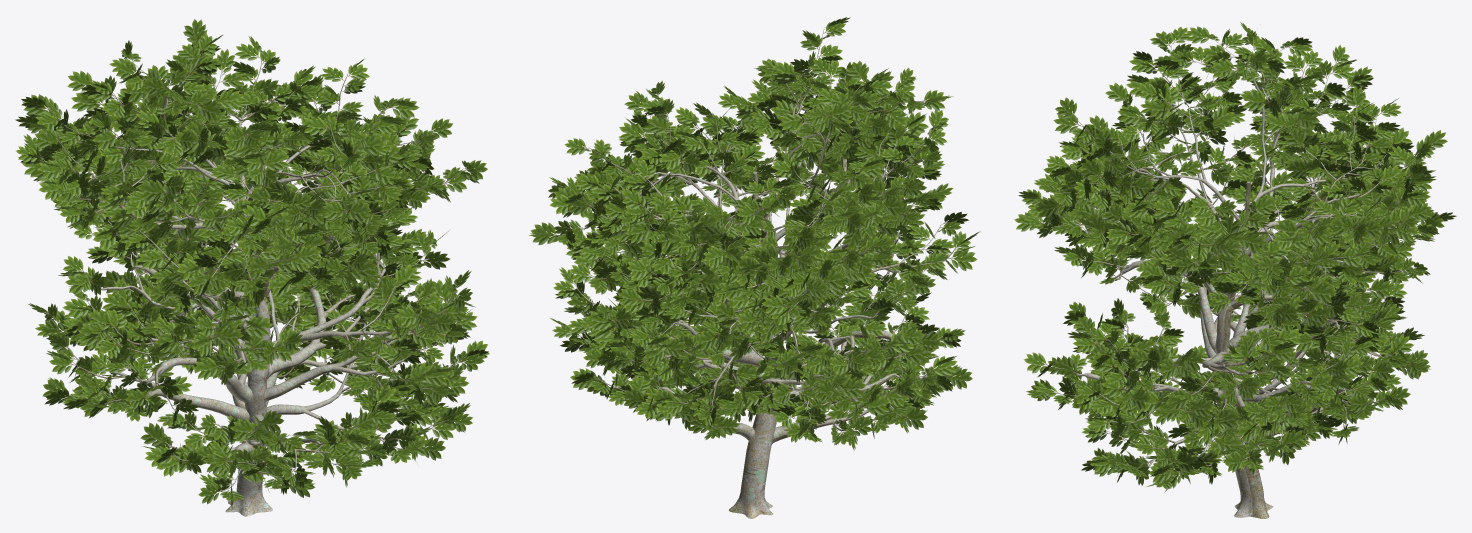
File: Palaquium_philippense.glb
3 renders of one model, left to right at view 1: azimuth 30°, elevation 25°; view 2: azimuth 150°, elevation 25°; view 3: azimuth 270°, elevation 25°, orthographic. The views are drawn at different scales.
Parts seen in each view (by area): view 1: Palaquium_philippense; view 2: Palaquium_philippense; view 3: Palaquium_philippense.
Part boxes in pixels (x1,y1,x2,y2): Palaquium_philippense: (15, 19, 489, 516); Palaquium_philippense: (529, 17, 980, 518); Palaquium_philippense: (1014, 22, 1456, 518).
Size of the model in its own units: 13.32 by 14.79 by 13.4.
2 materials, 2 textured.
